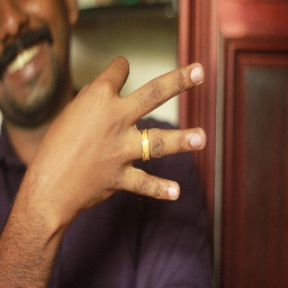K: (36, 53, 211, 210)
